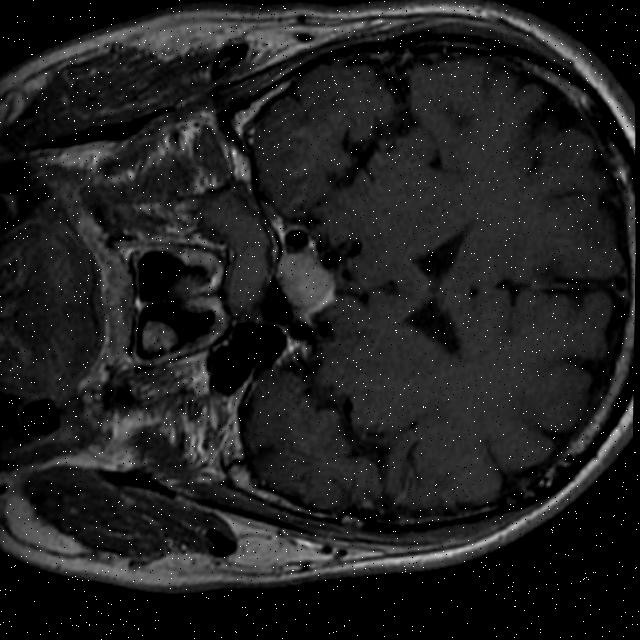Pituitary: (272, 249, 335, 322)
